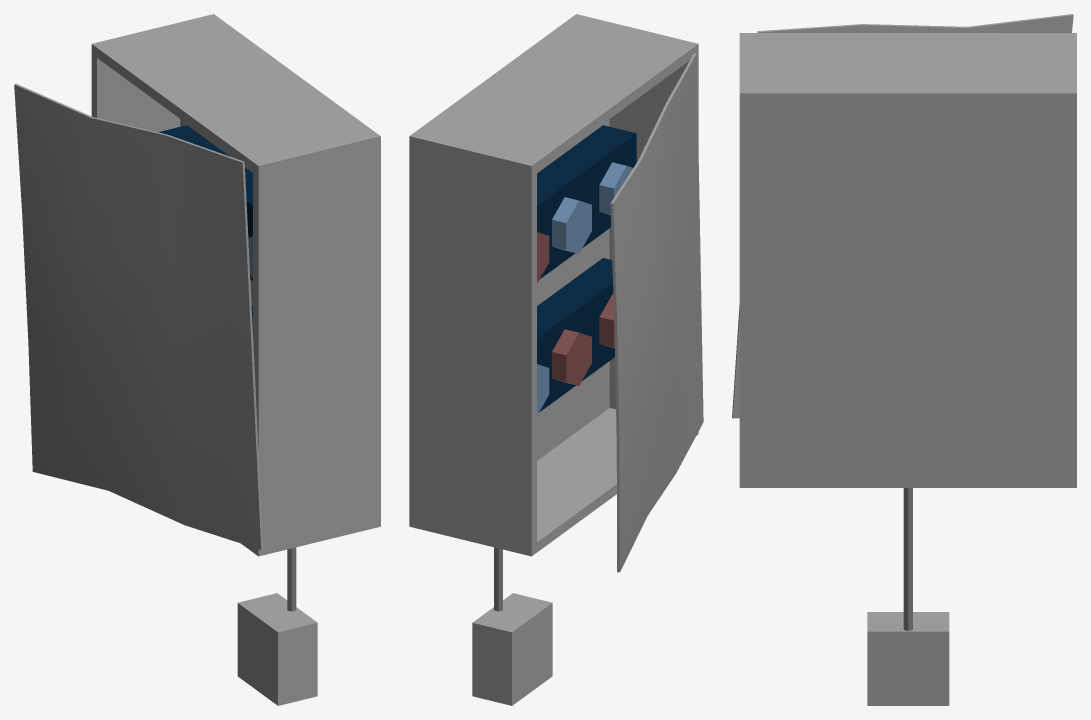
Rendered from O_Interactive_Fusebox.fbx.
The picture shows the model from 3 angles, left to right: view 1: azimuth 30°, elevation 25°; view 2: azimuth 150°, elevation 25°; view 3: azimuth 270°, elevation 25°; orthographic projection.
Parts seen in each view (by area): view 1: pCube7; view 2: pCube7; view 3: pCube7.
Part boxes in pixels (x1,y1,x2,y2): pCube7: (14,14,380,705); pCube7: (409,14,703,705); pCube7: (732,14,1076,705).
Bounding box in the file's own units: 0.5974 × 1.71 × 0.8751.
